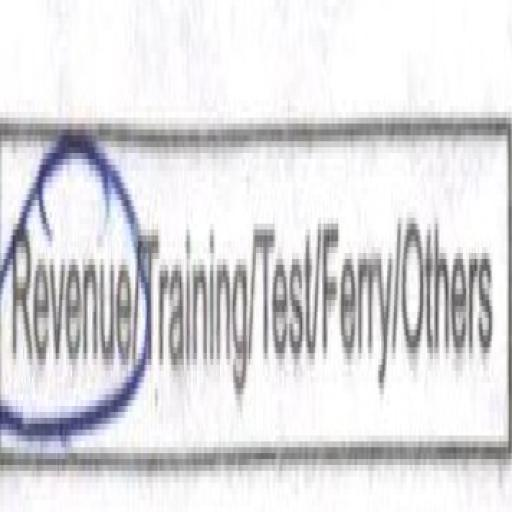check: (2, 114, 141, 464)
